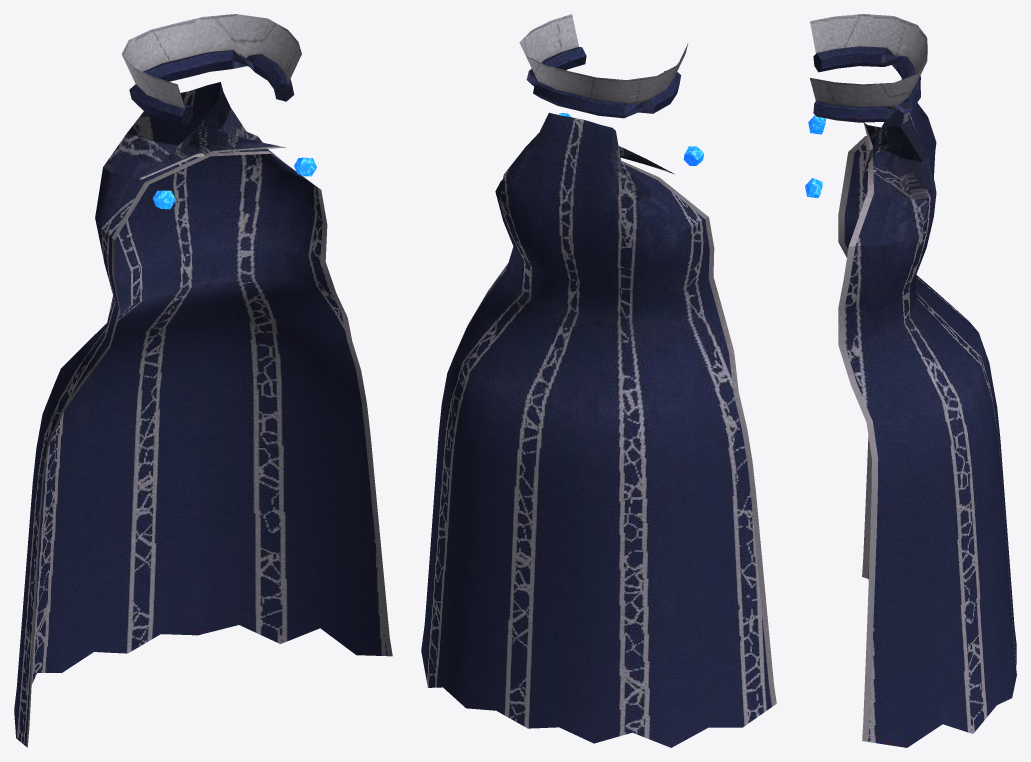
The model's file is Capa_do_Guardião_nivel75.glb.
3 renders of one model, left to right at view 1: azimuth 30°, elevation 25°; view 2: azimuth 150°, elevation 25°; view 3: azimuth 270°, elevation 25°, orthographic. The views are drawn at different scales.
Parts seen in each view (by area): view 1: capa_do_guardiao_nivel75; view 2: capa_do_guardiao_nivel75; view 3: capa_do_guardiao_nivel75.
Part boxes in pixels (x1,y1,x2,y2): capa_do_guardiao_nivel75: (14, 14, 392, 747); capa_do_guardiao_nivel75: (421, 14, 776, 747); capa_do_guardiao_nivel75: (805, 14, 1016, 747).
Bounding box in the file's own units: 0.7076 × 1.24 × 0.3806.
1 material, 1 textured.
